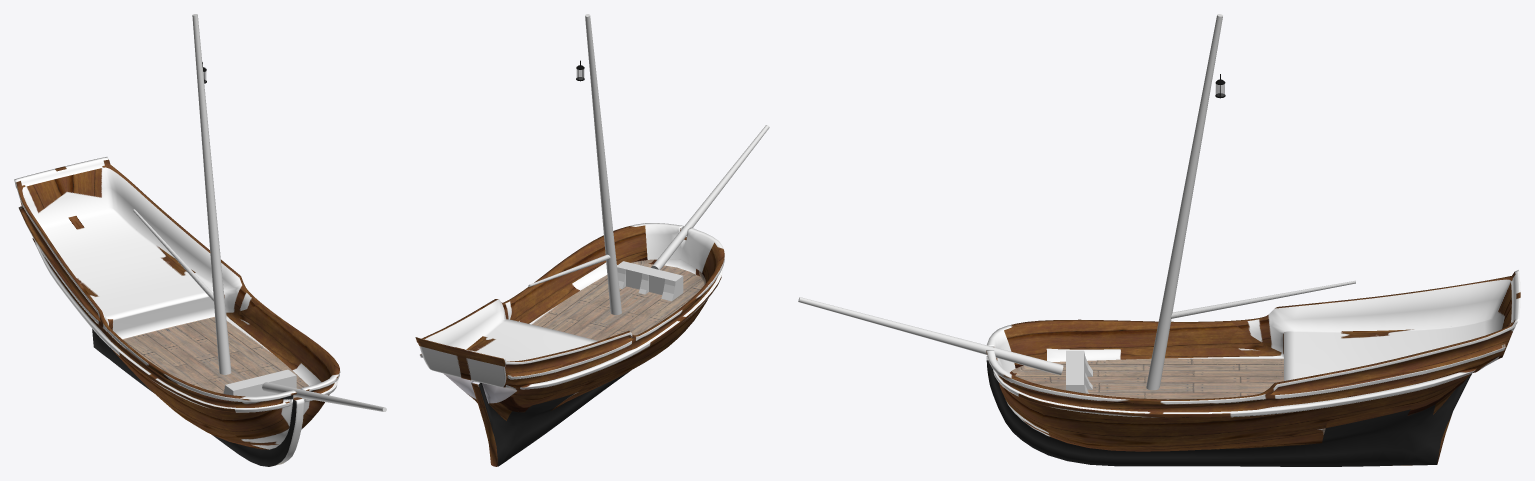
Rendered from modele.glb.
3 renders of one model, left to right at view 1: azimuth 30°, elevation 25°; view 2: azimuth 150°, elevation 25°; view 3: azimuth 270°, elevation 25°, orthographic. The views are drawn at different scales.
Parts seen in each view (by area): view 1: sloopPont, Cylinder.003, Cube.006, Cylinder.006, Cylinder.007; view 2: sloopPont, Cylinder.003, Cube.006, Cylinder.006, Cylinder.007; view 3: sloopPont, Cylinder.003, Cylinder.006, Cube.006, Cylinder.007.
Part boxes in pixels (x1,y1,x2,y2): sloopPont: (14, 157, 340, 466); Cylinder.003: (192, 14, 231, 374); Cube.006: (223, 369, 296, 396); Cylinder.006: (262, 382, 386, 411); Cylinder.007: (133, 209, 213, 301); sloopPont: (415, 223, 724, 466); Cylinder.003: (585, 14, 621, 314); Cube.006: (617, 261, 683, 301); Cylinder.006: (651, 125, 769, 269); Cylinder.007: (528, 254, 610, 286); sloopPont: (986, 270, 1520, 466); Cylinder.003: (1146, 14, 1222, 390); Cylinder.006: (798, 297, 1063, 375); Cube.006: (1066, 350, 1092, 393); Cylinder.007: (1171, 280, 1355, 318).
Size of the model in its own units: 3.8 by 10.03 by 14.57.
Materials: 3 (1 with a texture image).
